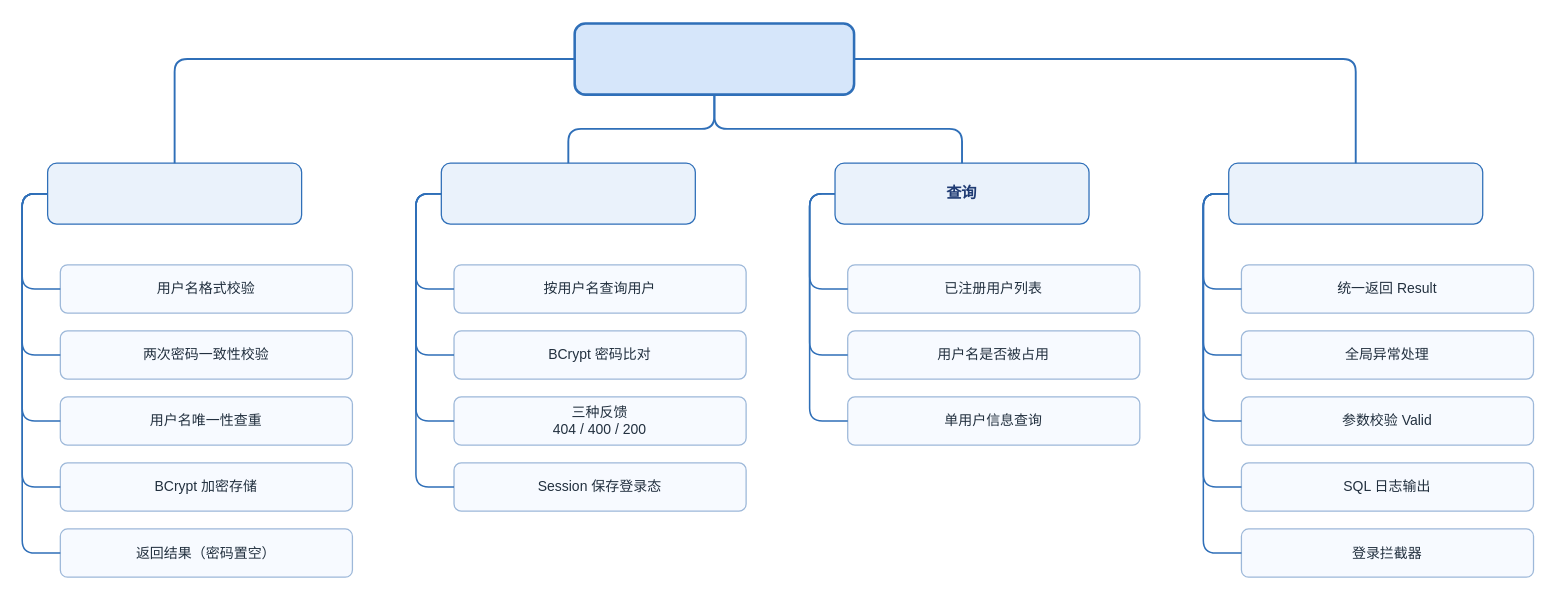
The diagram is 1557 pixels wide and 599 high, and some of its shapes have lost their labels. The box of each missing label's shape, as (x1, y1, x2, y2) in pixels:
注册: (46, 162, 302, 224)
用户模块（第一批）: (573, 22, 855, 95)
登录: (440, 162, 695, 224)
系统支撑: (1227, 162, 1483, 224)
